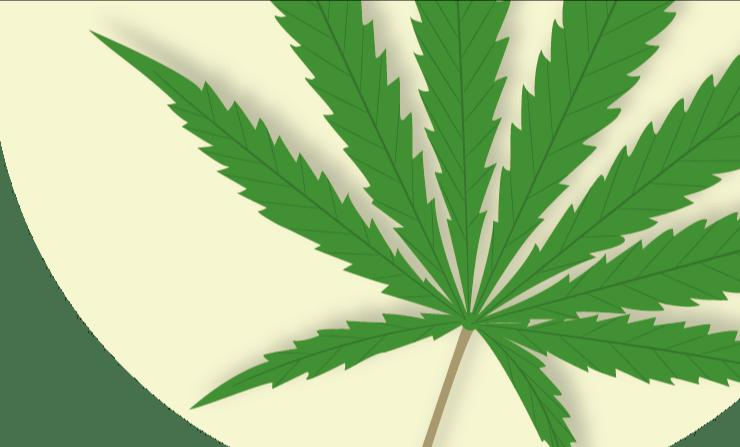cannabis: (91, 0, 739, 446)
